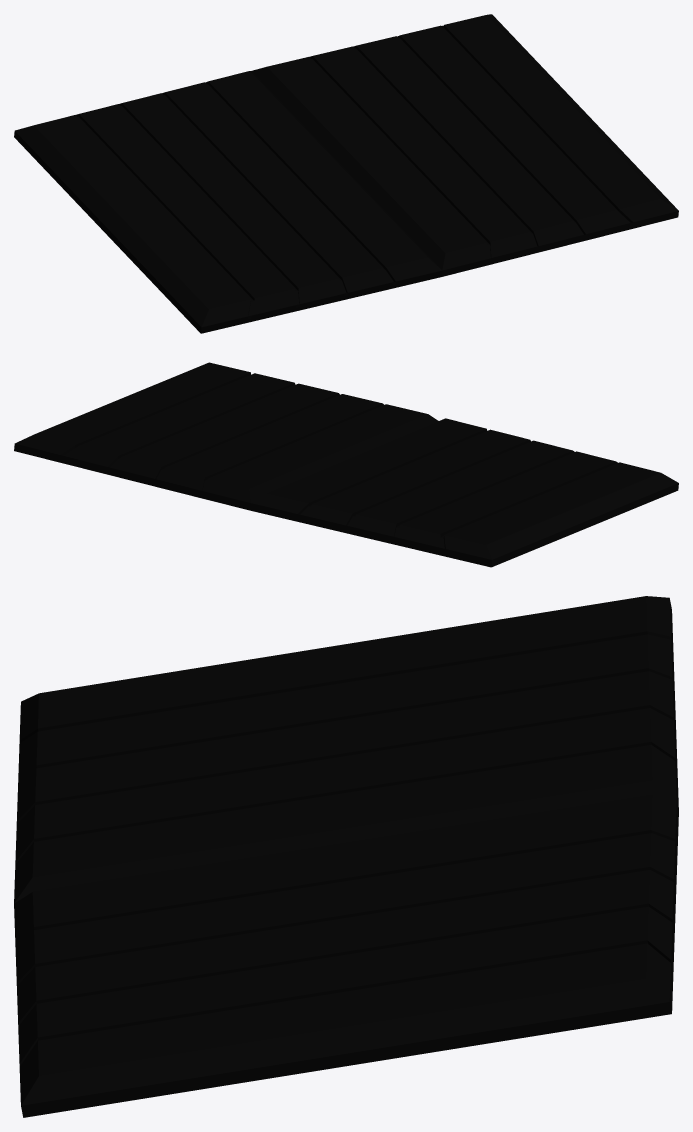
The model's file is DumpsterLid.glb.
3 renders of one model, top to bottom at view 1: azimuth 30°, elevation 25°; view 2: azimuth 150°, elevation 25°; view 3: azimuth 270°, elevation 25°, orthographic. The views are drawn at different scales.
Visible parts, largest first — view 1: Dumpster.001; view 2: Dumpster.001; view 3: Dumpster.001.
Boxes of the visible parts, left/top/right/bottom form: Dumpster.001: left=14, top=14, right=678, bottom=333; Dumpster.001: left=14, top=362, right=678, bottom=567; Dumpster.001: left=14, top=596, right=678, bottom=1117.
Bounding box in the file's own units: 1.9 × 0.2811 × 1.32.
1 material, 1 textured.
